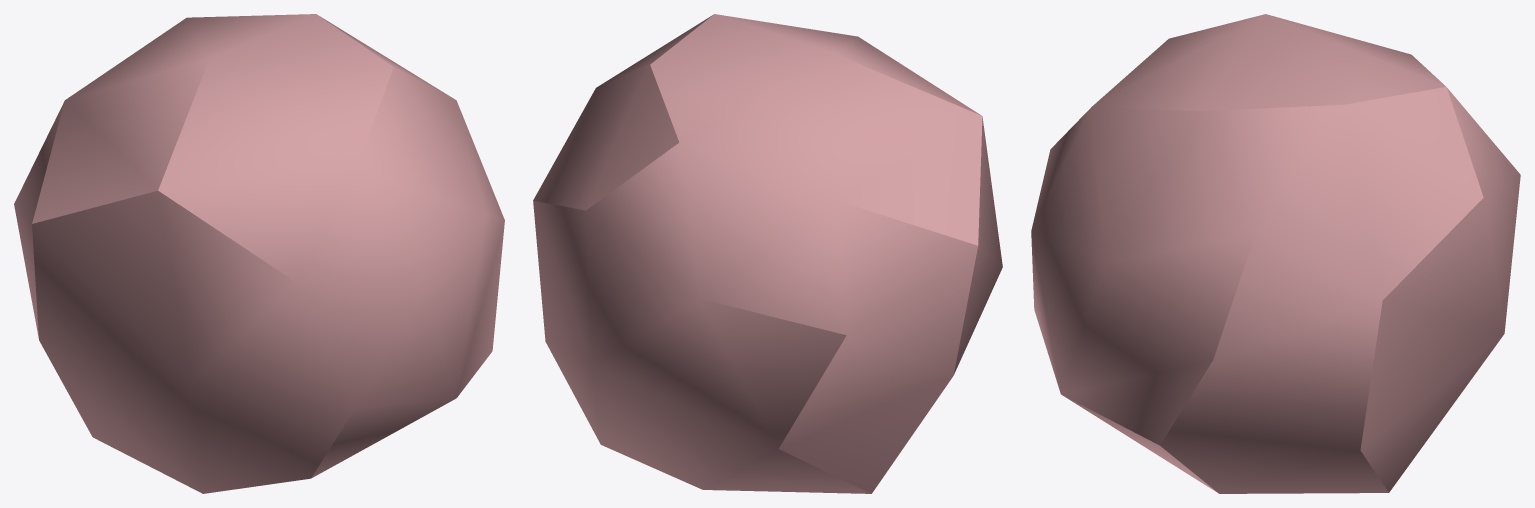
The model's file is fma78477_mm3195.glb.
3 views of the same model, side by side, from view 1: azimuth 30°, elevation 25°; view 2: azimuth 150°, elevation 25°; view 3: azimuth 270°, elevation 25° (orthographic).
Parts seen in each view (by area): view 1: FMA78477_MM3195; view 2: FMA78477_MM3195; view 3: FMA78477_MM3195.
Part boxes in pixels (x1,y1,x2,y2): FMA78477_MM3195: (14,14,504,493); FMA78477_MM3195: (533,14,1002,493); FMA78477_MM3195: (1031,14,1520,493).
Size of the model in its own units: 0.00149 by 0.00135 by 0.00144.
